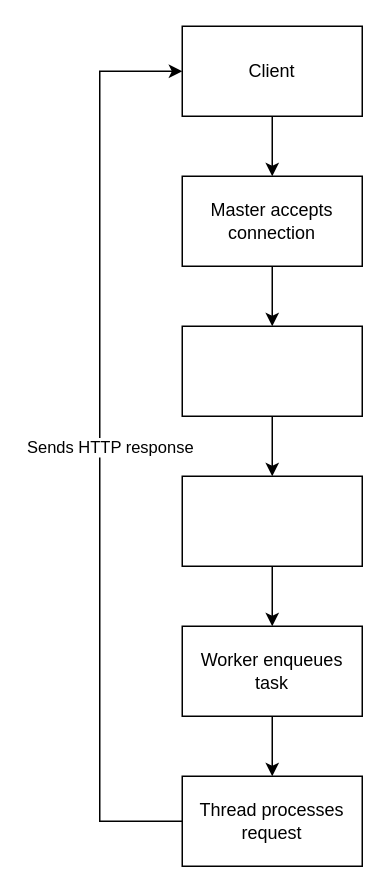
This 389x893 diagram has some shape labels left out. Each missing label, with the centre of its shape:
"Master sends FD through UDS" belongs at (x=271, y=370).
"Worker receives FD" belongs at (x=271, y=520).
